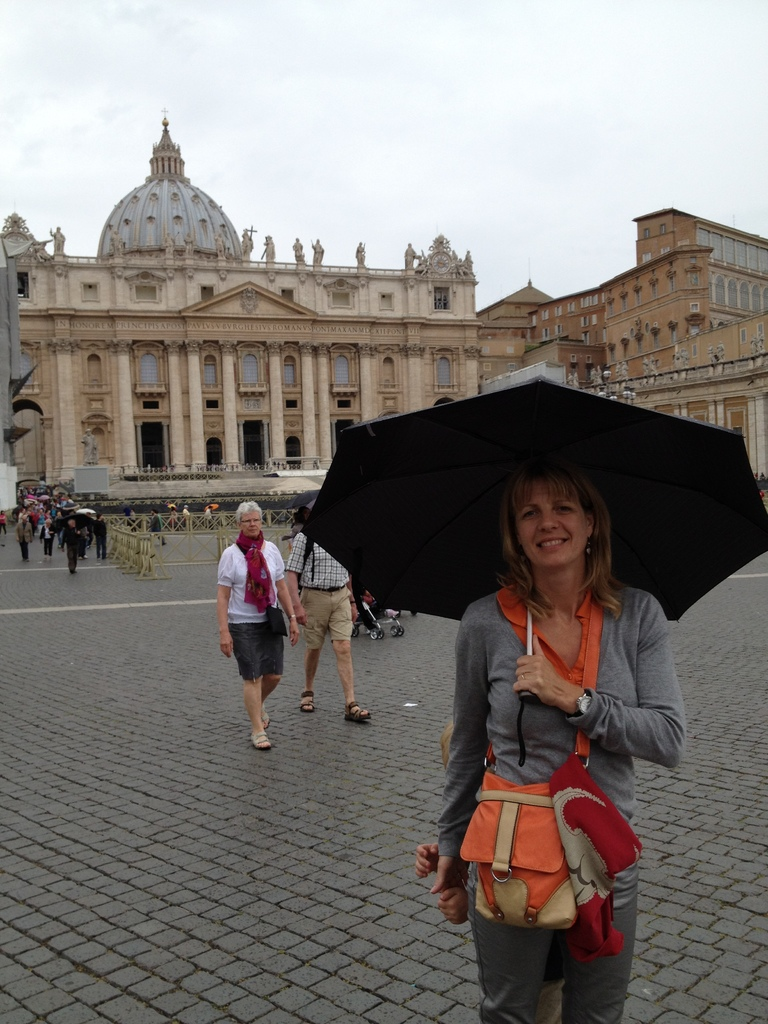Footwear: (296, 685, 317, 719), (345, 700, 369, 721), (245, 730, 268, 749), (261, 709, 271, 728)
